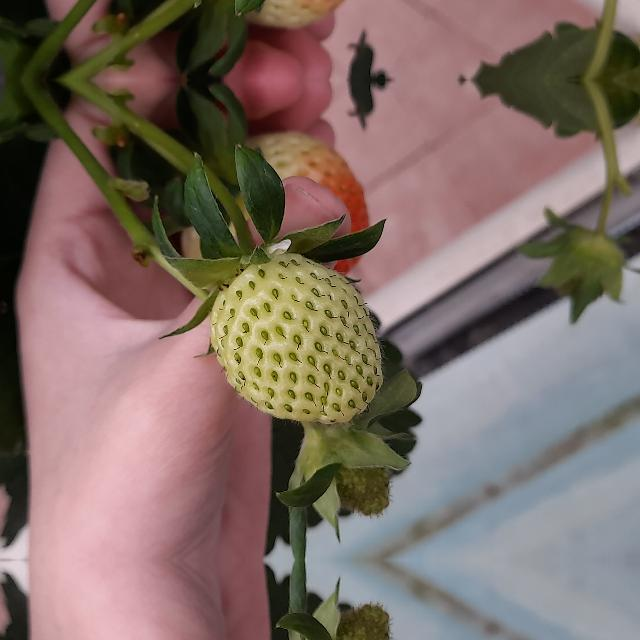Health_25: (210, 252, 382, 423)
